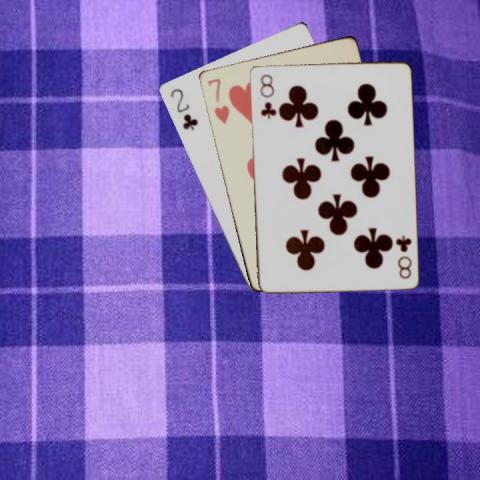2c: (167, 85, 199, 132)
7h: (204, 75, 231, 125)
8c: (392, 232, 412, 280), (257, 71, 275, 120)
